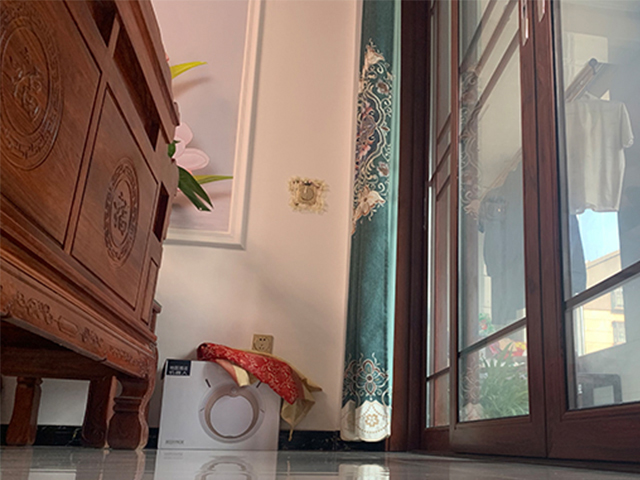curtain: (338, 1, 401, 442)
sofa: (1, 1, 180, 449)
